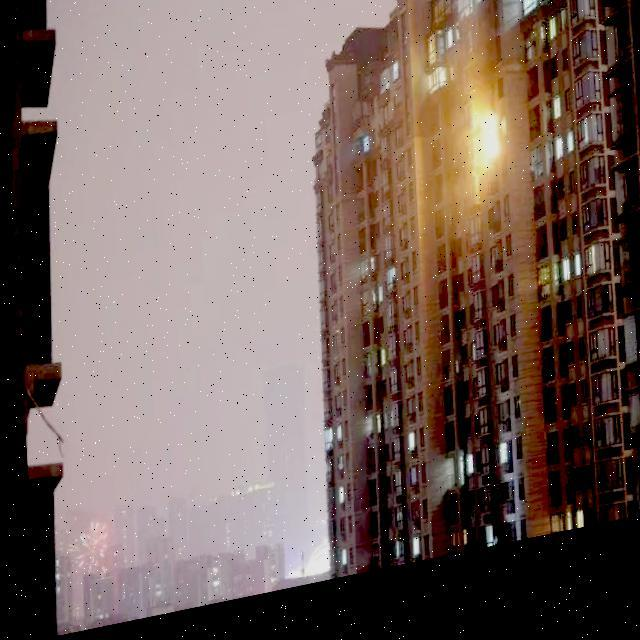Fire: (464, 112, 499, 192)
